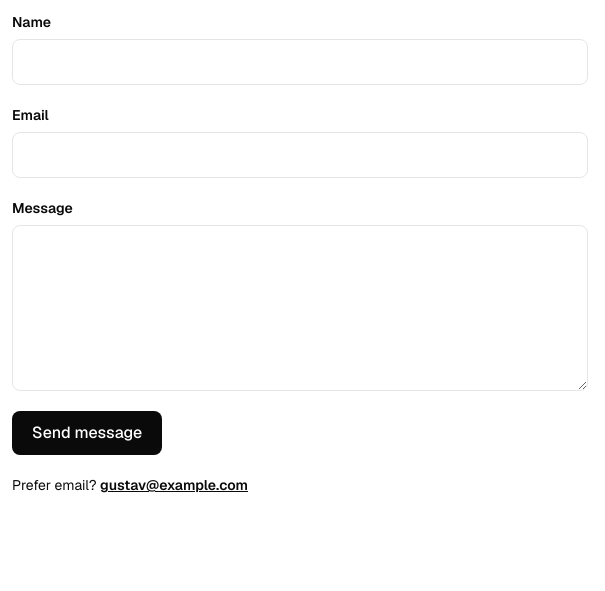
Test: ContactForm › validates client-side with zod and shows per-field errors without fetching
Step 1. Click the button "Send message" → (87, 433), box [12,411,162,455]
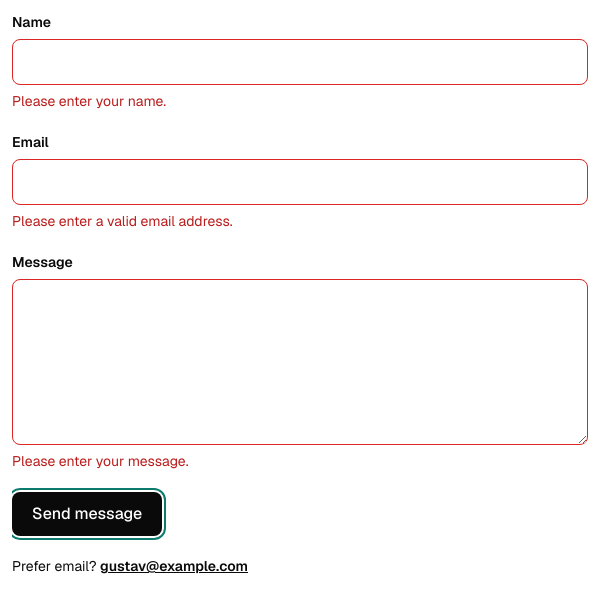
Expected: the text "Please enter your name." is shown, [12,92,166,110]
Expected: the text "Please enter a valid email address." is shown, [12,212,232,230]
Expected: the text "Please enter your message." is shown, [12,452,188,470]
